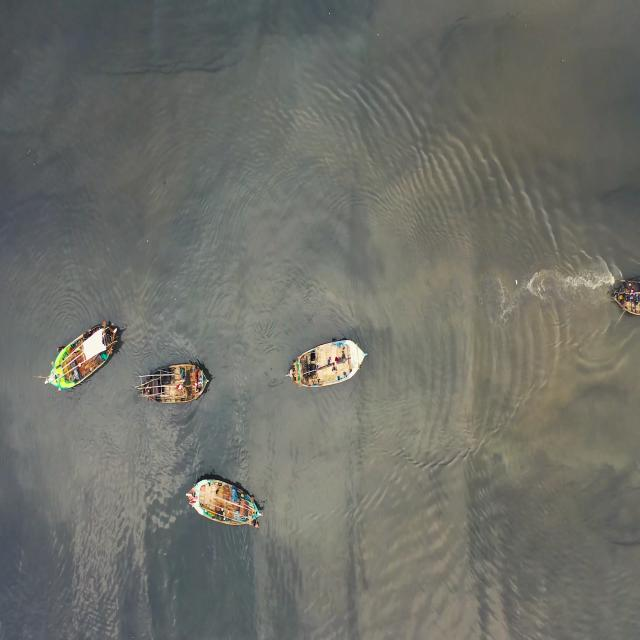ship: (35, 312, 125, 393), (184, 470, 273, 531), (286, 331, 372, 388), (136, 358, 212, 406), (610, 274, 638, 326)
